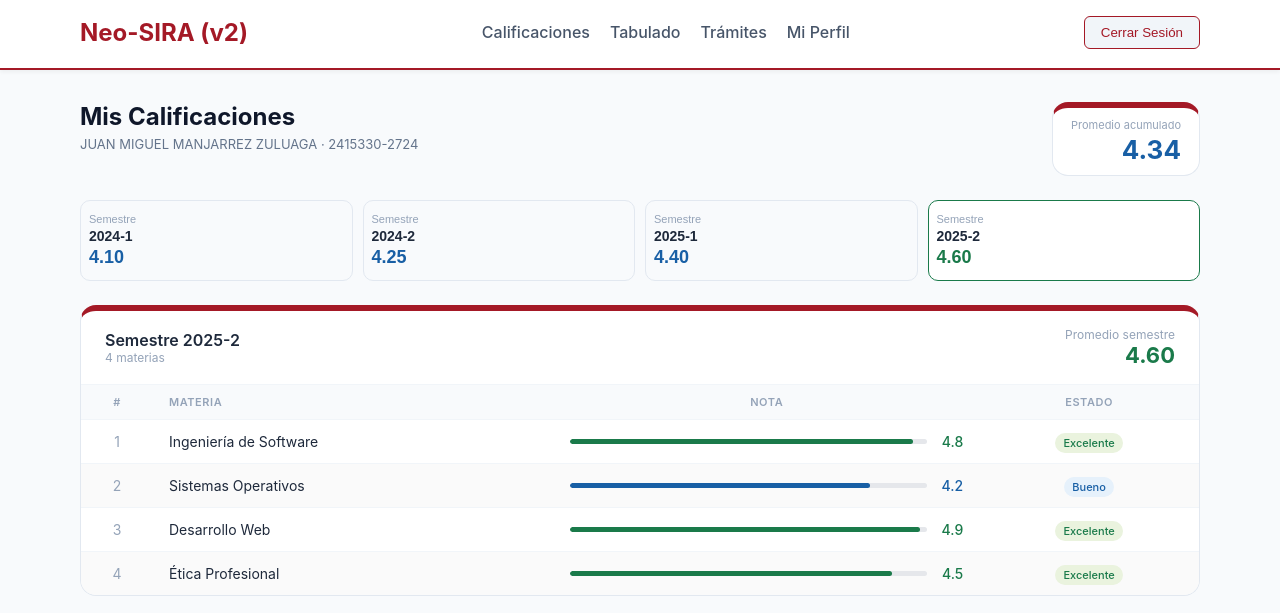
Test: Componente Calificaciones › Cambia las materias al seleccionar un semestre diferente
Click on the first semester tab
Click the text "2024-1" at (111,236), box [89, 228, 133, 244]
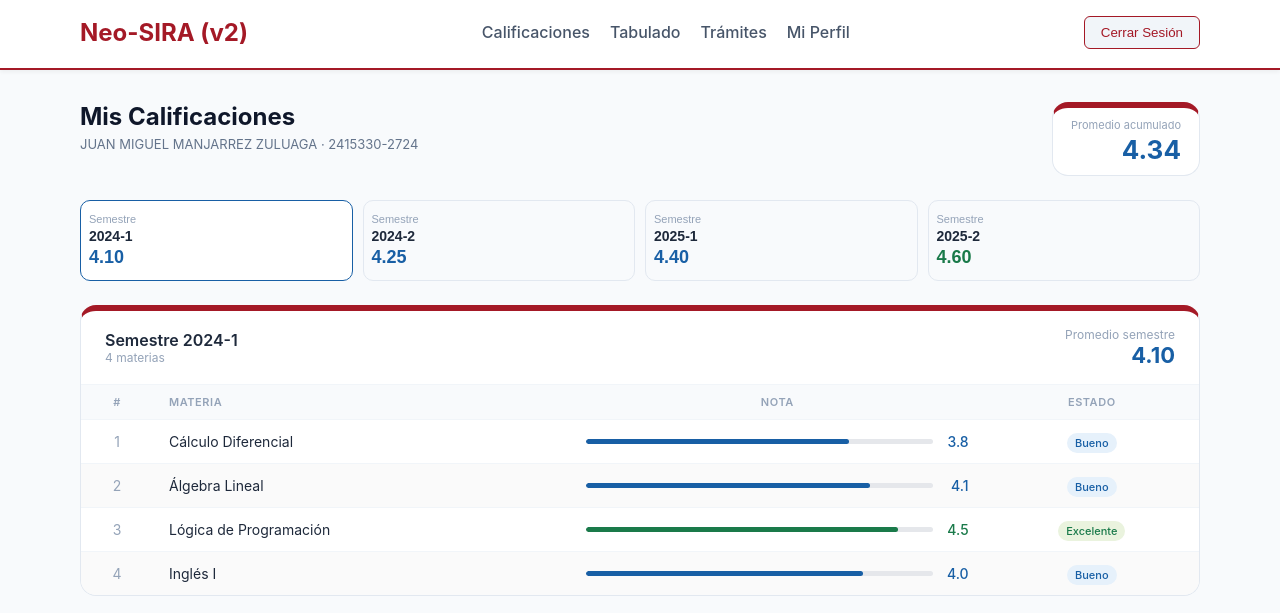
Result: the text "Cálculo Diferencial" is shown at [153, 420, 570, 464]
Result: the text "Álgebra Lineal" is shown at [153, 464, 570, 508]
Result: the text "Lógica de Programación" is shown at [153, 508, 570, 552]
